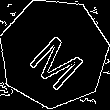M_NE: (20, 19, 88, 88)
